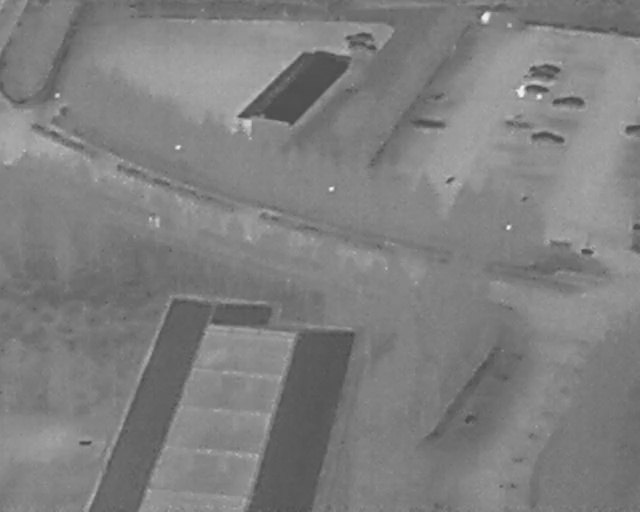Car: (515, 85, 550, 101), (530, 131, 565, 147), (552, 96, 585, 111), (522, 73, 558, 84), (529, 64, 560, 75), (348, 42, 376, 54), (344, 33, 374, 42), (624, 124, 640, 139)
